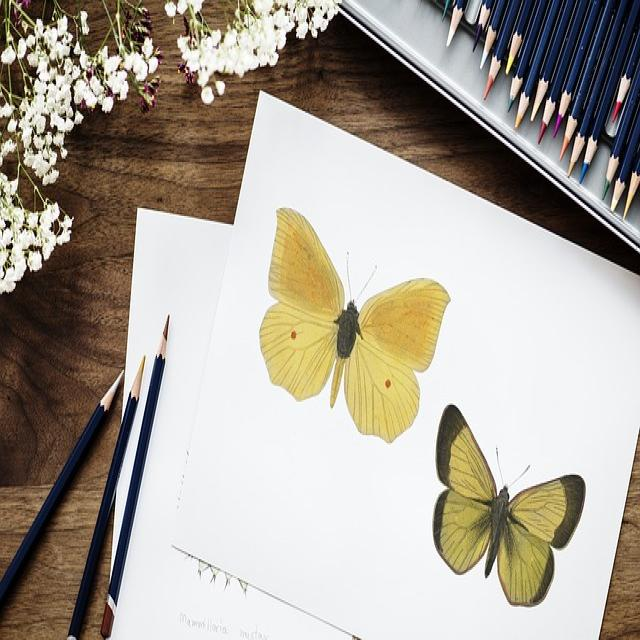butterfly: (255, 206, 453, 449), (426, 402, 587, 613)
